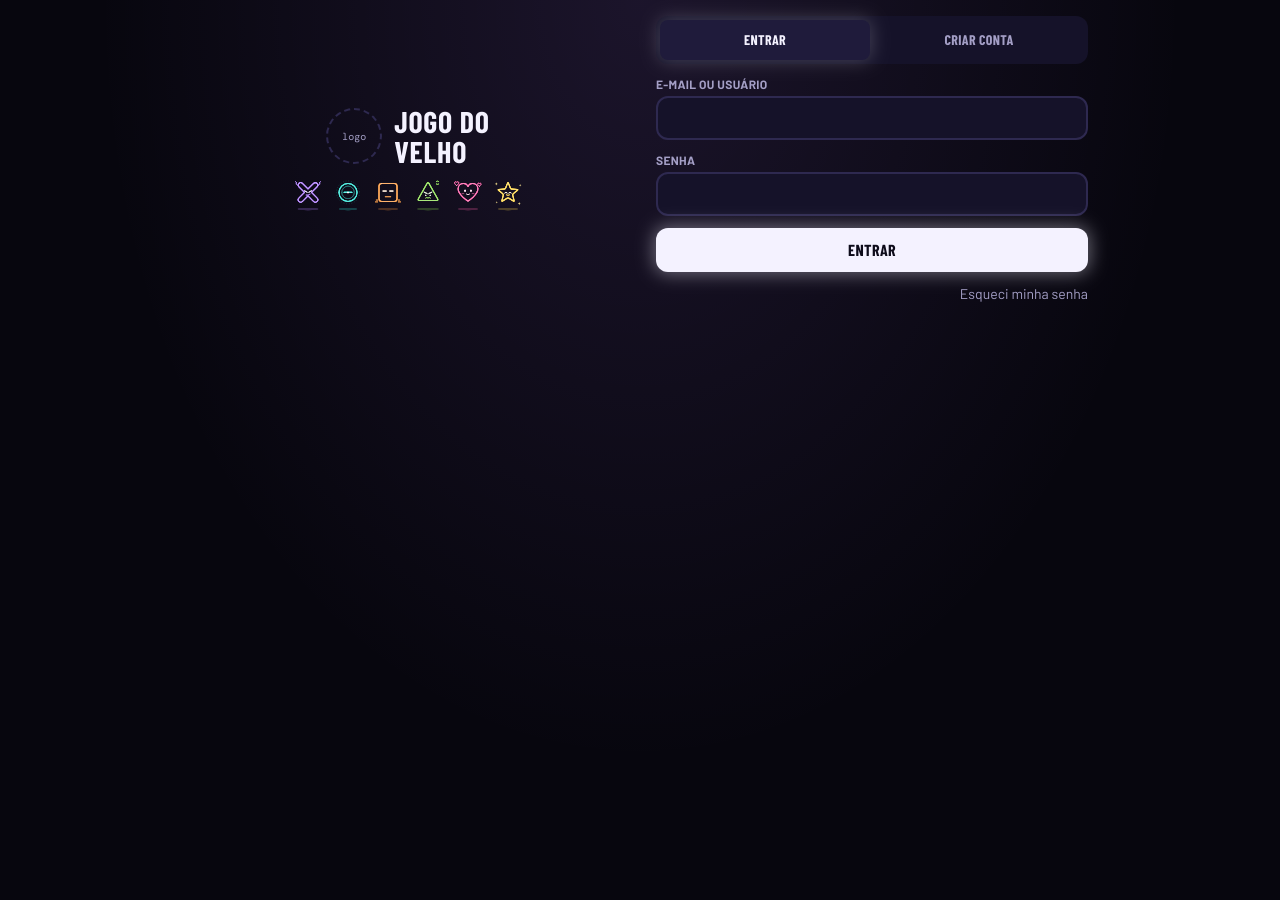
Test: Esqueci minha senha › o link abre o modal e, no simulado, o pedido termina com a mensagem de sempre
Click the button "Esqueci minha senha": x=1024, y=294 [960,284,1088,304]
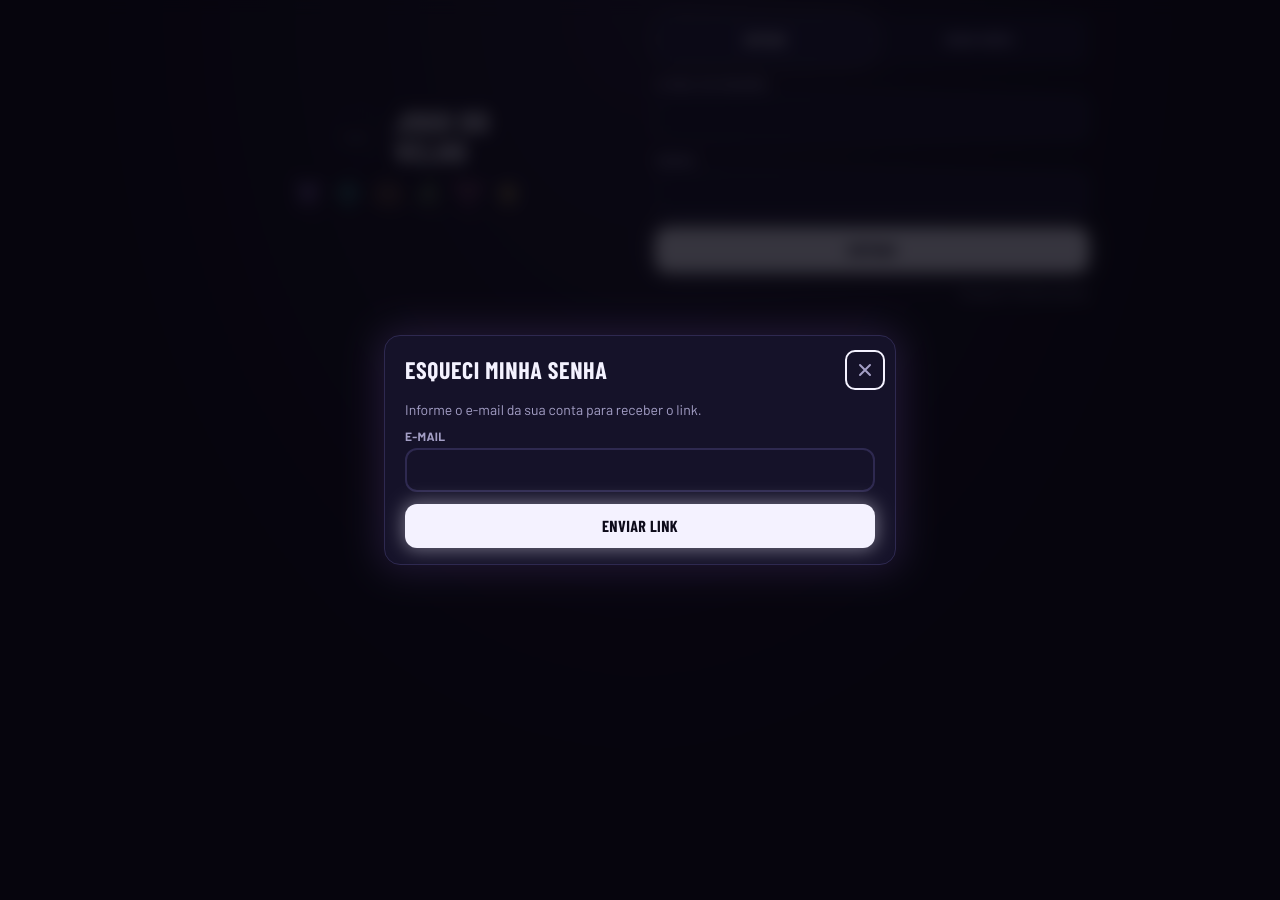
In the field labelled "E-mail": x=640, y=470 [405,448,875,492], type "ana@exemplo.com"
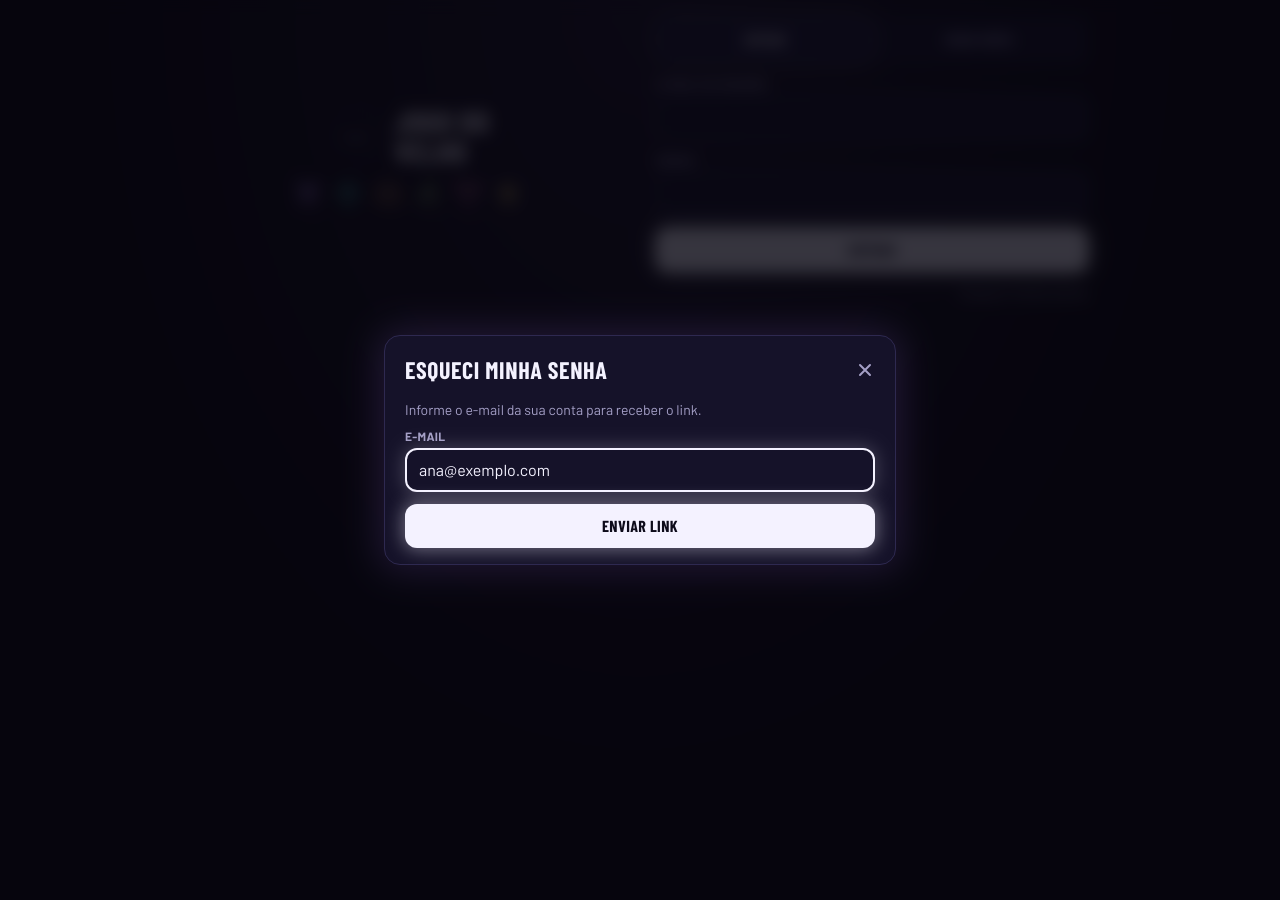
Click the button "Enviar link": x=640, y=526 [405,504,875,548]
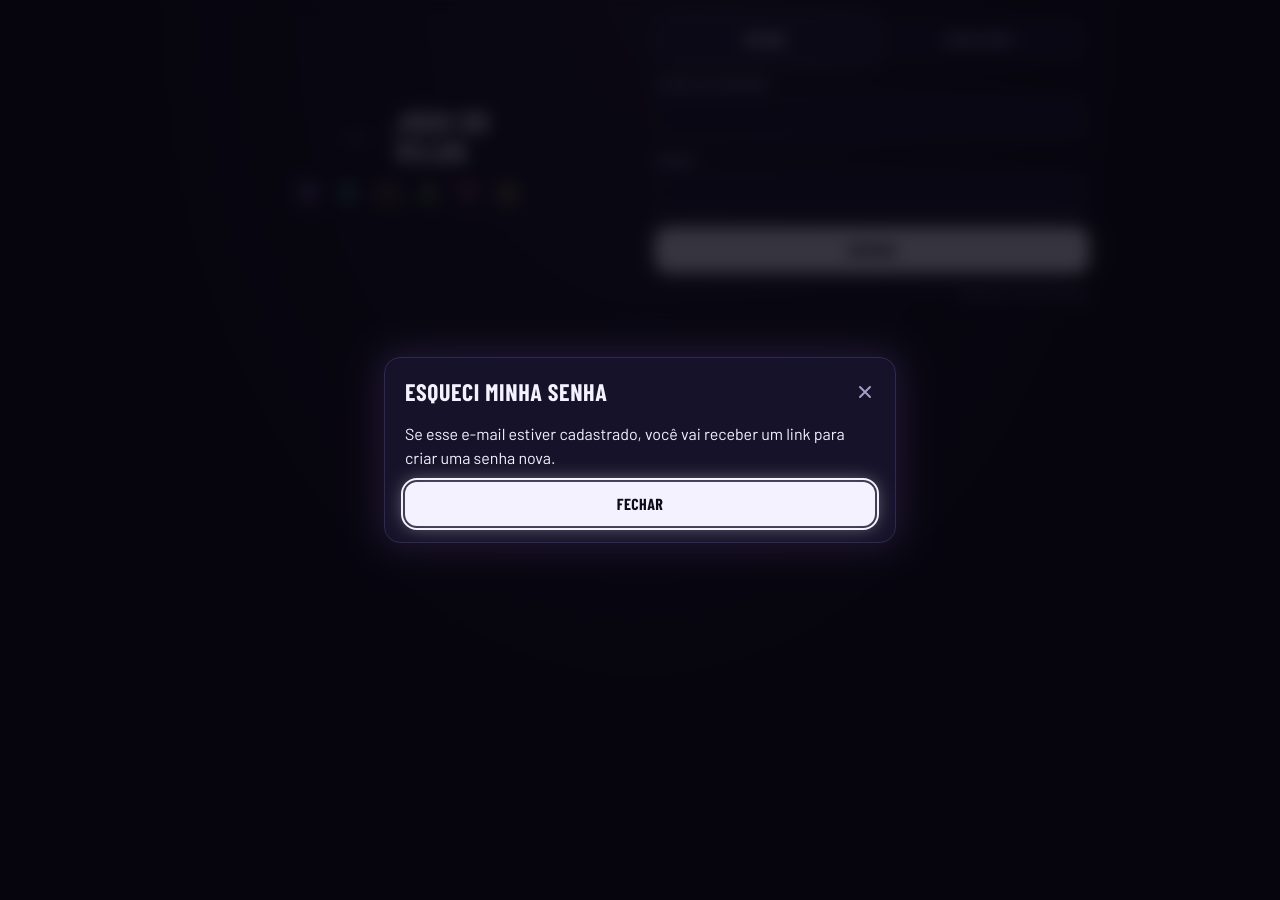
Now the text "Se esse e-mail estiver cadastrado, você vai receber um link para criar uma senha nova." is shown, box [405,424,845,467]
